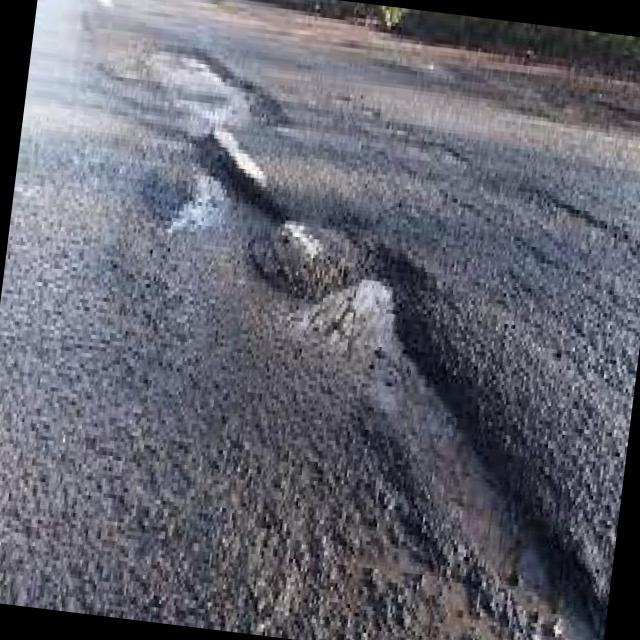Pothole: (146, 51, 607, 640)
